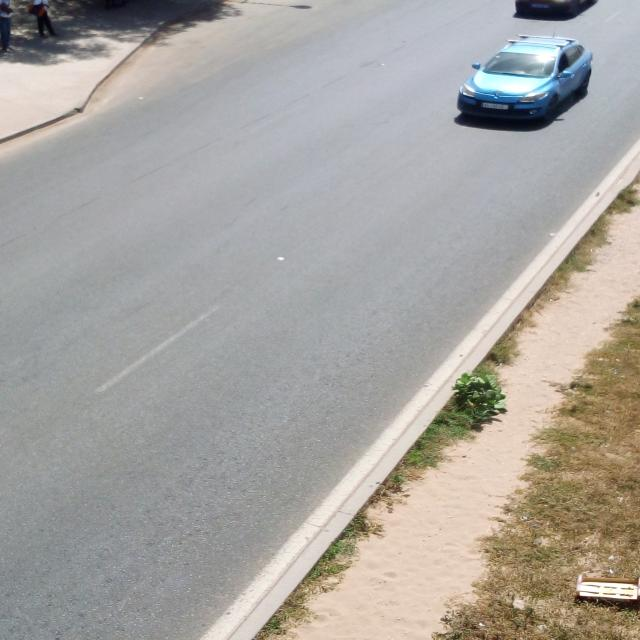particulier: (458, 36, 594, 120)
